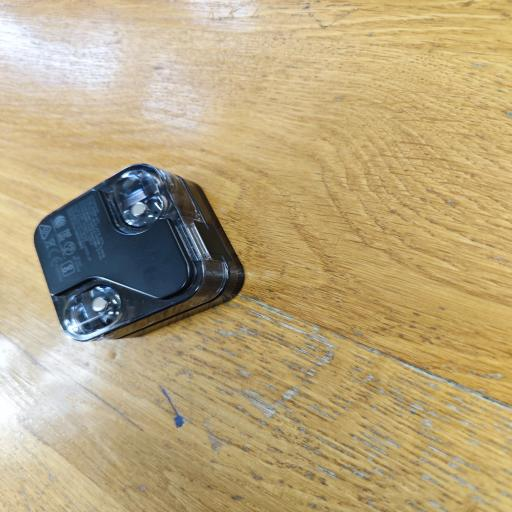CASTI: (26, 157, 258, 347)
